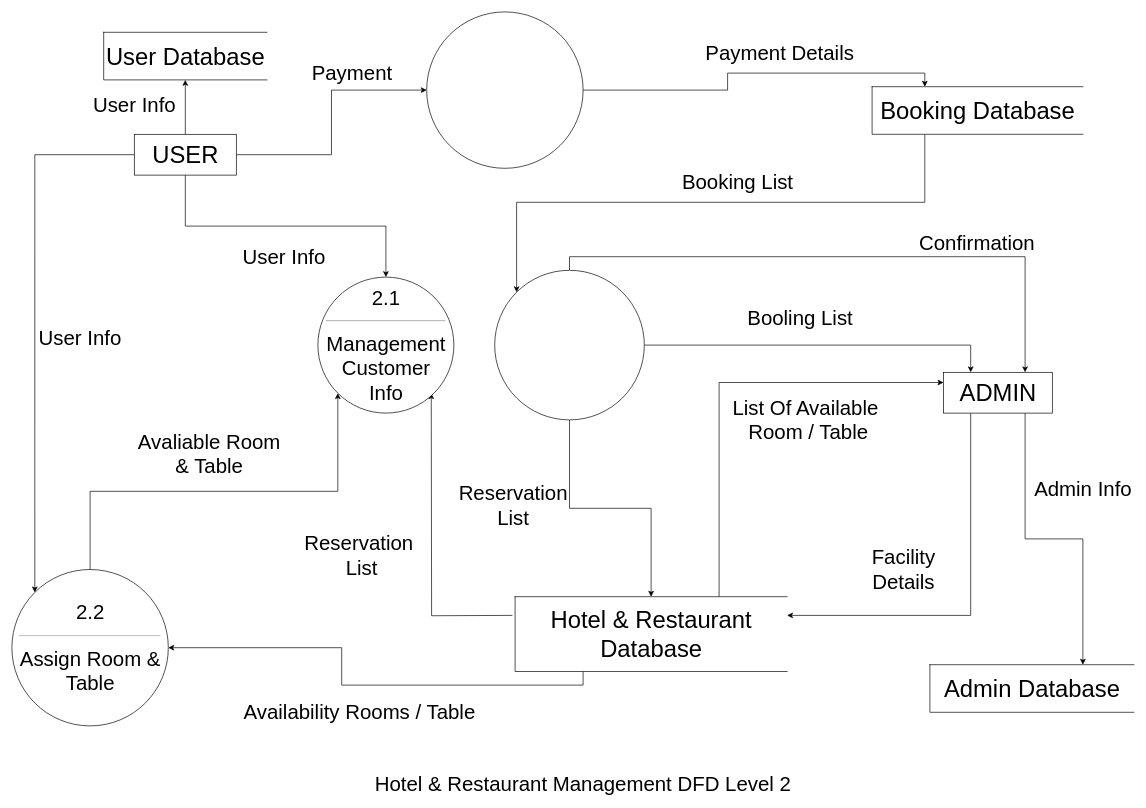
Image size: 1146x808. Some labels were removed from this diagram. Each missing label, with the box of its shape:
2.3 Manage Reservation: (494, 270, 644, 420)
2.4 Payment Management: (426, 11, 583, 168)
